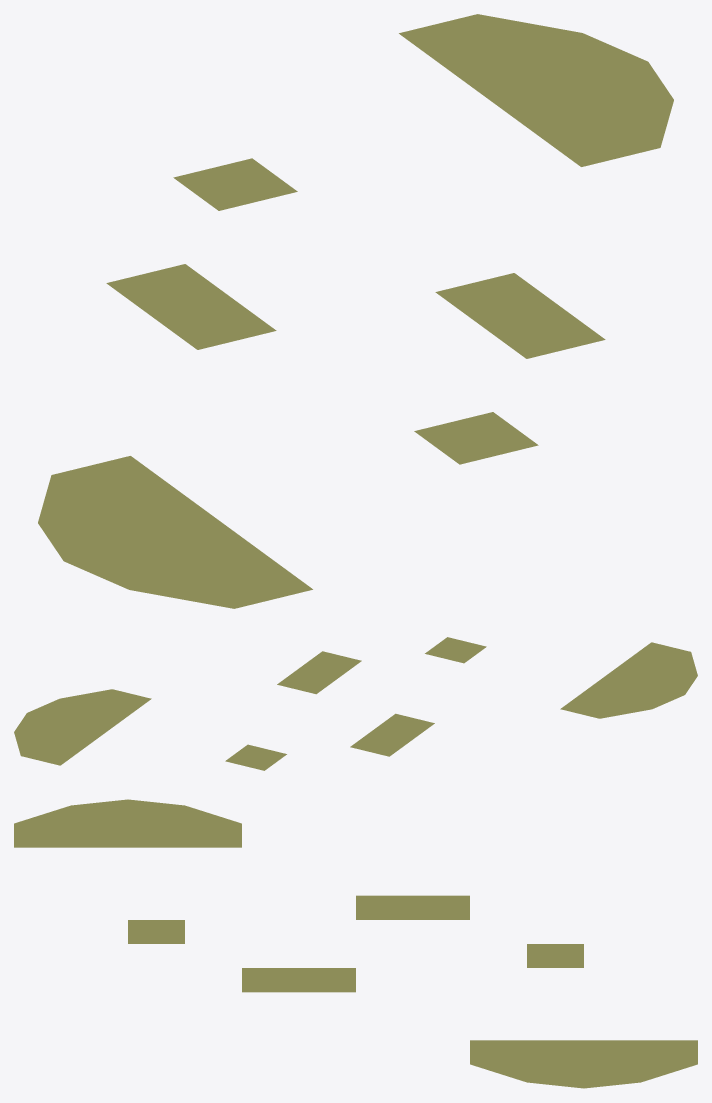
The model's file is ForestWorldOnlyTheHighGround.fbx.
3 renders of one model, top to bottom at view 1: azimuth 30°, elevation 25°; view 2: azimuth 150°, elevation 25°; view 3: azimuth 270°, elevation 25°, orthographic. The views are drawn at different scales.
Parts seen in each view (by area): view 1: Model; view 2: Model; view 3: Model.
Part boxes in pixels (box(x1,y1,x2,y2)): Model: box(38, 14, 673, 608); Model: box(14, 637, 697, 770); Model: box(14, 799, 697, 1088).
Bounding box in the file's own units: 0.75 × 0 × 0.75.
